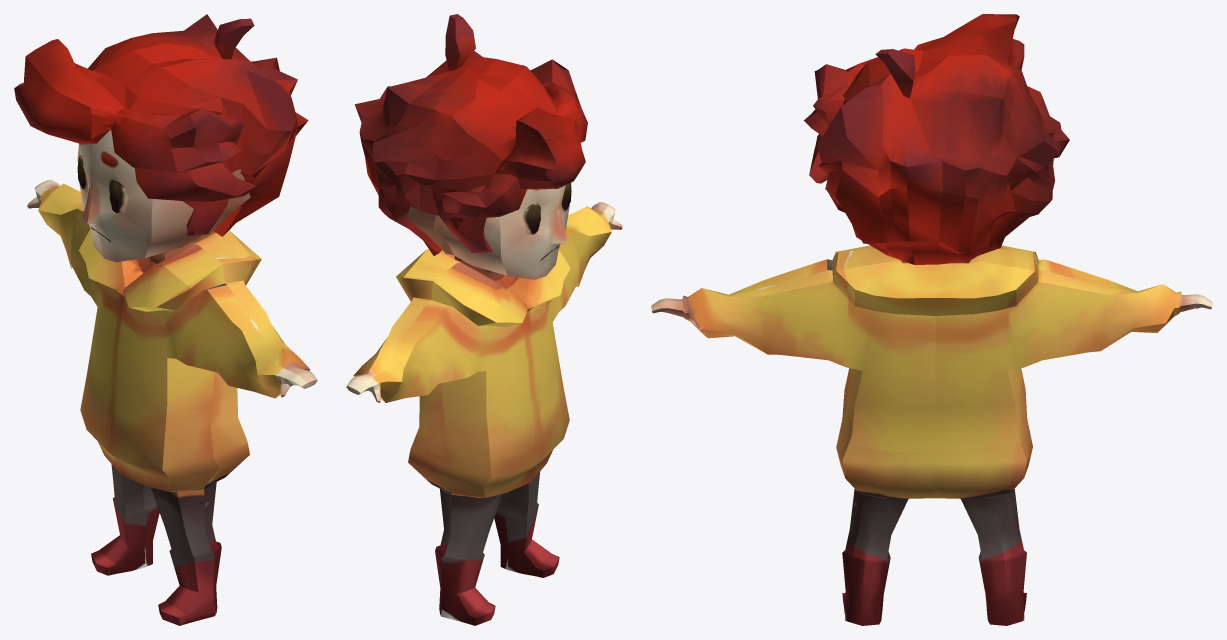
The model's file is mainchar.fbx.
3 renders of one model, left to right at view 1: azimuth 30°, elevation 25°; view 2: azimuth 150°, elevation 25°; view 3: azimuth 270°, elevation 25°, orthographic. The views are drawn at different scales.
Visible parts, largest first — view 1: mainchar; view 2: mainchar; view 3: mainchar.
Boxes of the visible parts, x1,y1,x2,y2 form: mainchar: [14, 14, 317, 625]; mainchar: [346, 14, 622, 625]; mainchar: [651, 14, 1212, 625].
Bounding box in the file's own units: 0.6304 × 1.44 × 1.23.
1 material, 1 textured.
